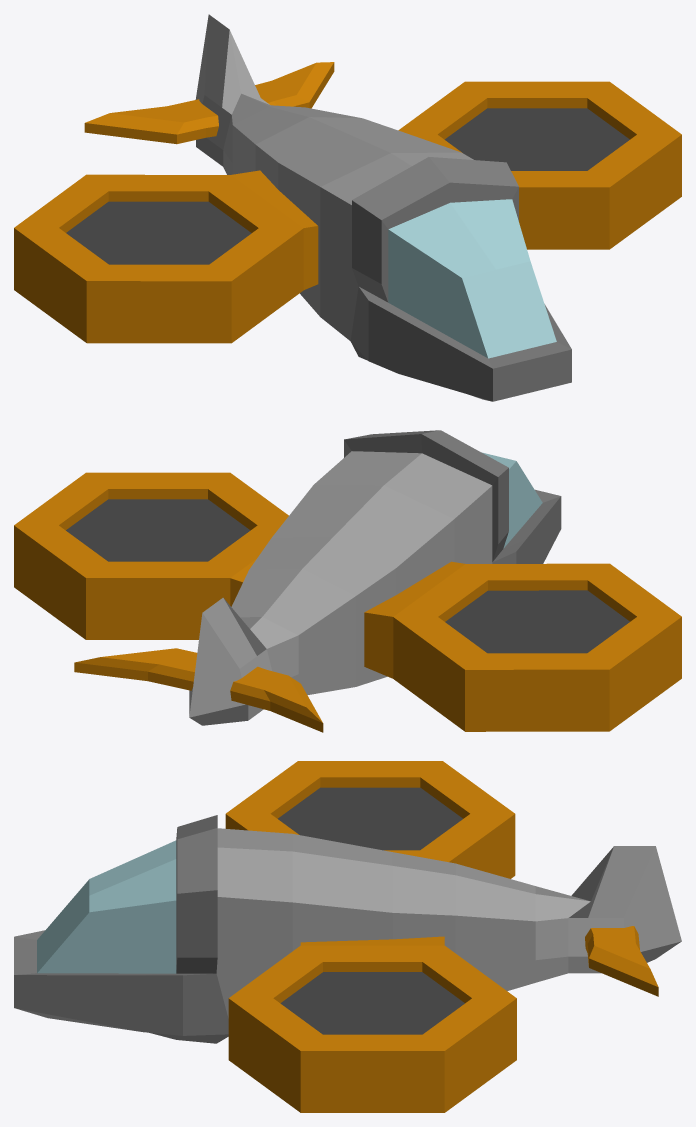
File: rockopter.fbx
3 renders of one model, top to bottom at view 1: azimuth 30°, elevation 25°; view 2: azimuth 150°, elevation 25°; view 3: azimuth 270°, elevation 25°, orthographic.
Visible parts, largest first — view 1: Cube, Cylinder.001, Cylinder, Cube.001, Cube.002; view 2: Cube, Cylinder.001, Cylinder, Cube.002, Cube.001; view 3: Cube, Cylinder, Cylinder.001, Cube.002.
Part boxes in pixels (box(x1,y1,x2,y2)): Cube: box(195, 14, 571, 401); Cylinder.001: box(14, 170, 318, 343); Cylinder: box(398, 81, 681, 249); Cube.001: box(84, 99, 218, 144); Cube.002: box(255, 62, 334, 108); Cube: box(189, 430, 561, 725); Cylinder.001: box(364, 561, 681, 731); Cylinder: box(14, 472, 288, 639); Cube.002: box(74, 648, 197, 690); Cube.001: box(230, 666, 323, 732); Cube: box(14, 815, 681, 1043); Cylinder: box(228, 936, 516, 1112); Cylinder.001: box(225, 761, 515, 878); Cube.002: box(585, 926, 658, 996).
Bounding box in the file's own units: 598 × 175 × 582.
